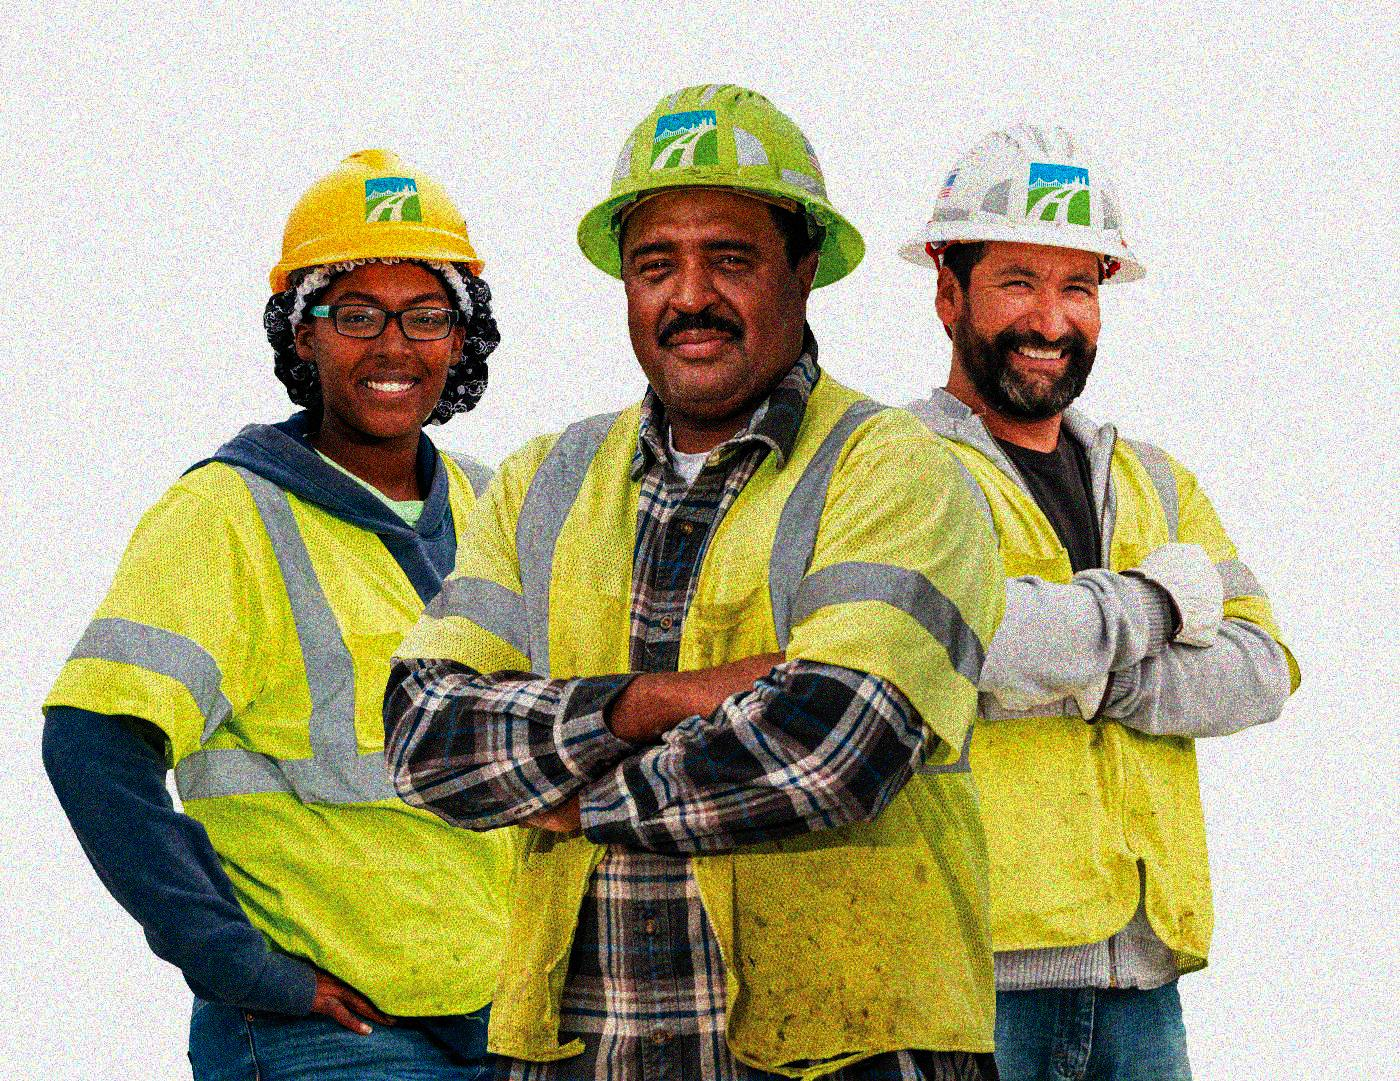helmet: (580, 77, 870, 420), (896, 114, 1152, 424), (266, 139, 493, 441)
